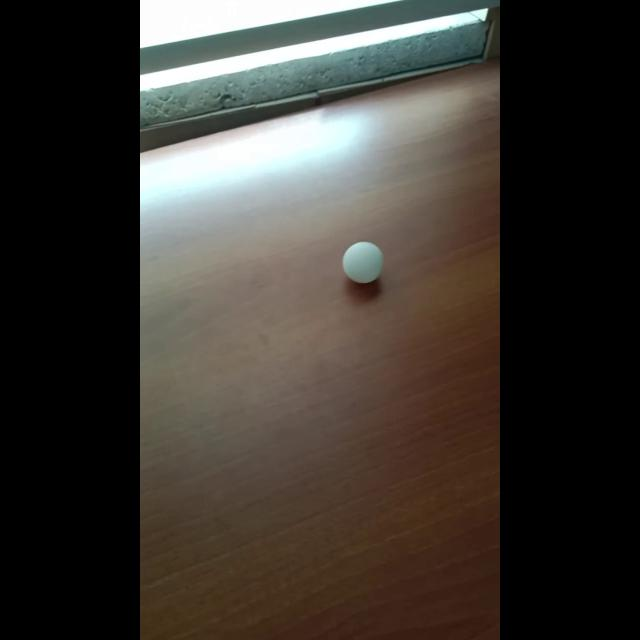white ball: (341, 240, 383, 284)
